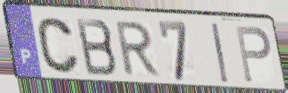7: (156, 19, 190, 83)
B: (74, 16, 120, 79)
C: (35, 16, 82, 76)
I: (209, 21, 231, 85)
P: (233, 24, 273, 85)
R: (114, 20, 163, 78)
